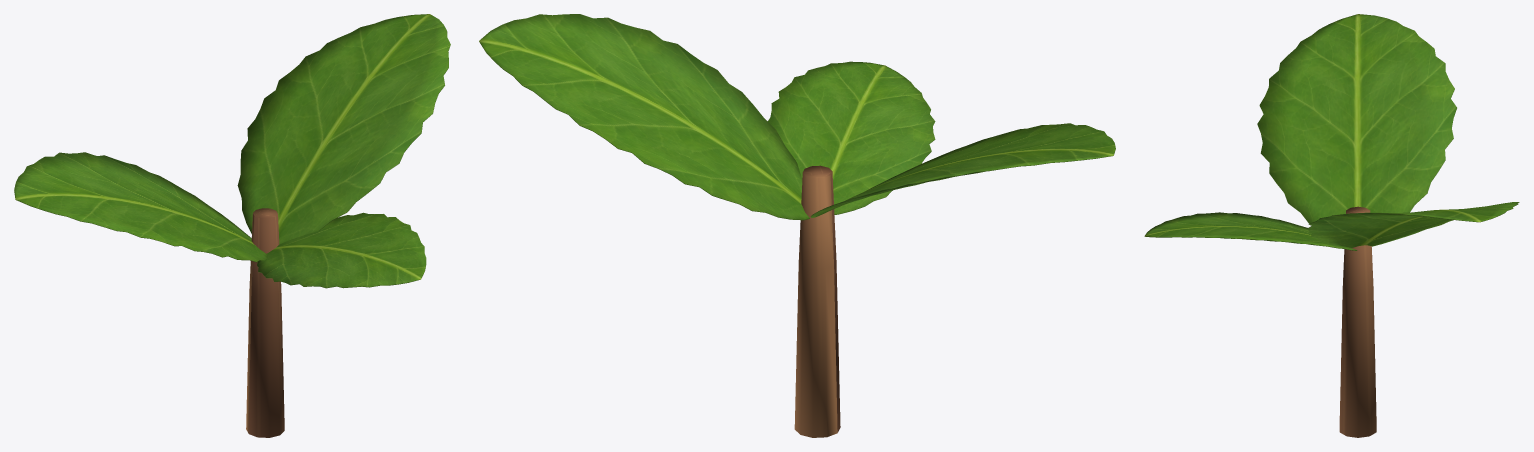
File: NP_Raspberry_Sprout.fbx
3 renders of one model, left to right at view 1: azimuth 30°, elevation 25°; view 2: azimuth 150°, elevation 25°; view 3: azimuth 270°, elevation 25°, orthographic. The views are drawn at different scales.
Parts seen in each view (by area): view 1: NP_Raspberry_Sprout; view 2: NP_Raspberry_Sprout; view 3: NP_Raspberry_Sprout.
Boxes of the visible parts, x1=… form: NP_Raspberry_Sprout: x1=14, y1=14, x2=450, y2=437; NP_Raspberry_Sprout: x1=479, y1=14, x2=1115, y2=437; NP_Raspberry_Sprout: x1=1144, y1=14, x2=1519, y2=437.
Size of the model in its own units: 39.5 by 25.32 by 26.86.
